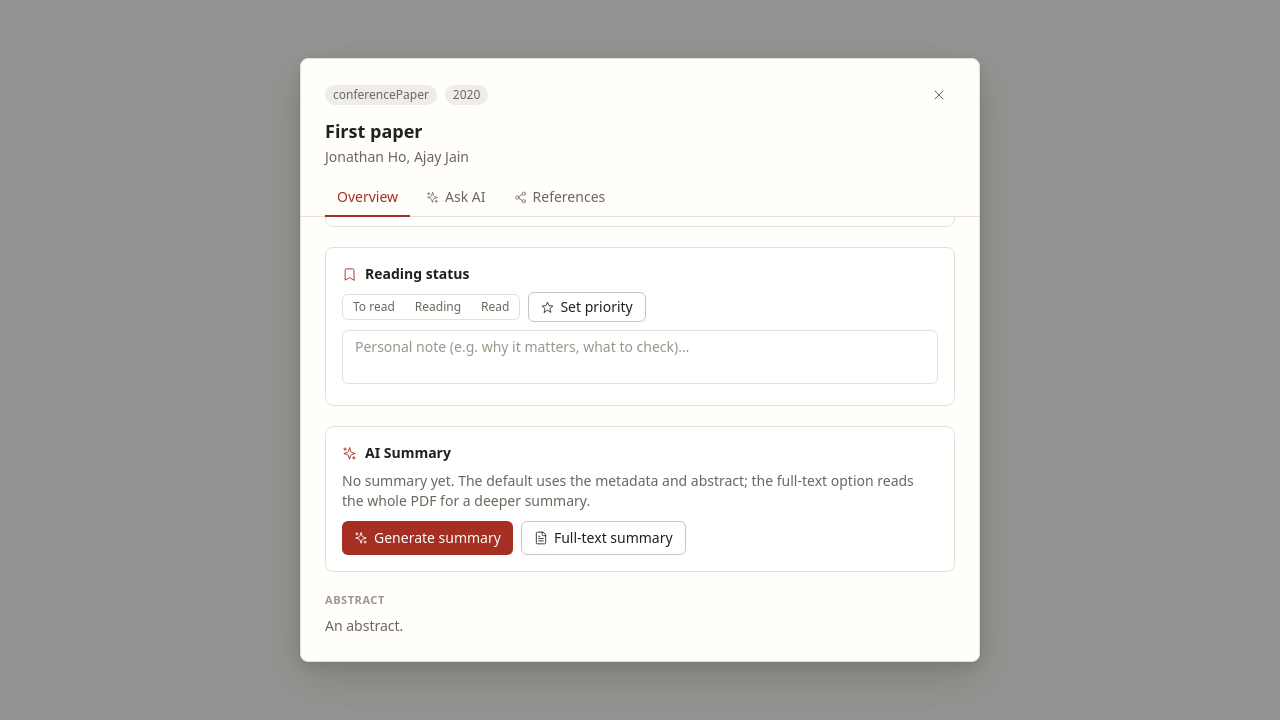
ItemDetailModal › shows metadata and file actions, and generates a summary
(page scrolled)
Expected: the heading "First paper" is shown, [325,119,422,143]
// No summary stored → generate button appears.
Click the button "Generate summary" at (427, 538), box [342,521,513,555]
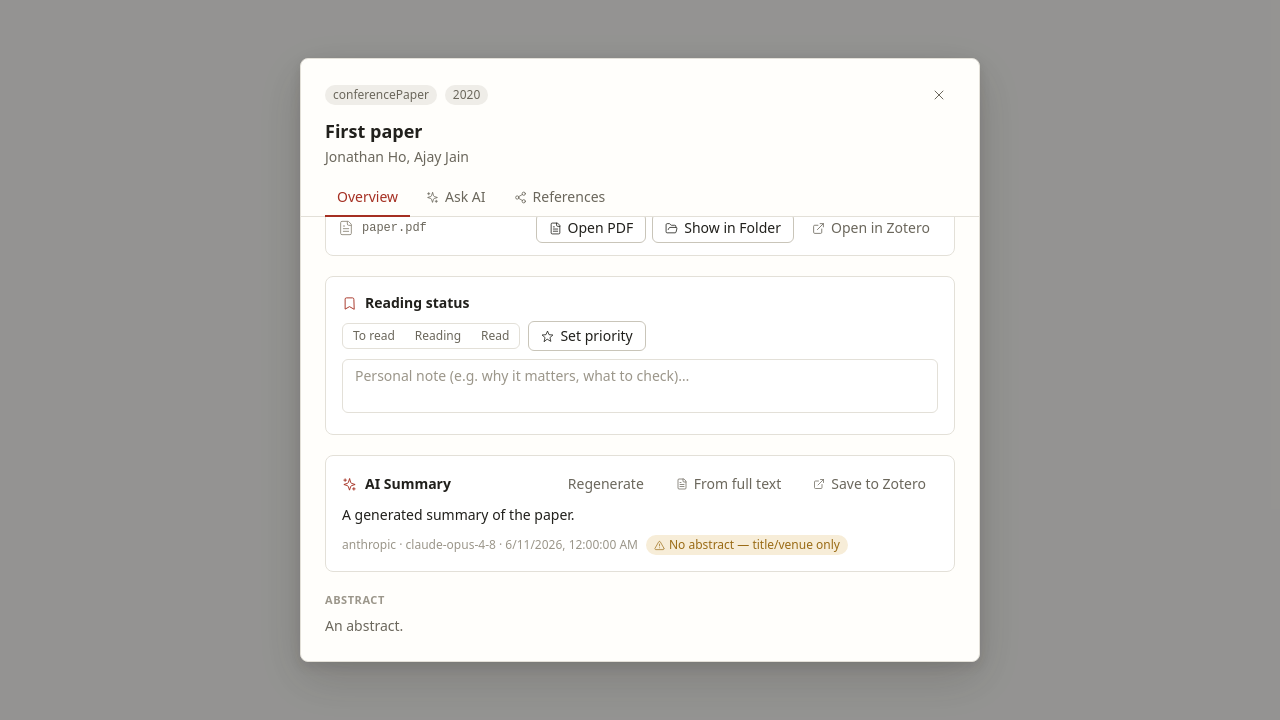
Expected: the text "A generated summary of the paper." is shown, [342,505,575,524]
Expected: the text "No abstract — title/venue only" is shown, [646,535,848,555]
